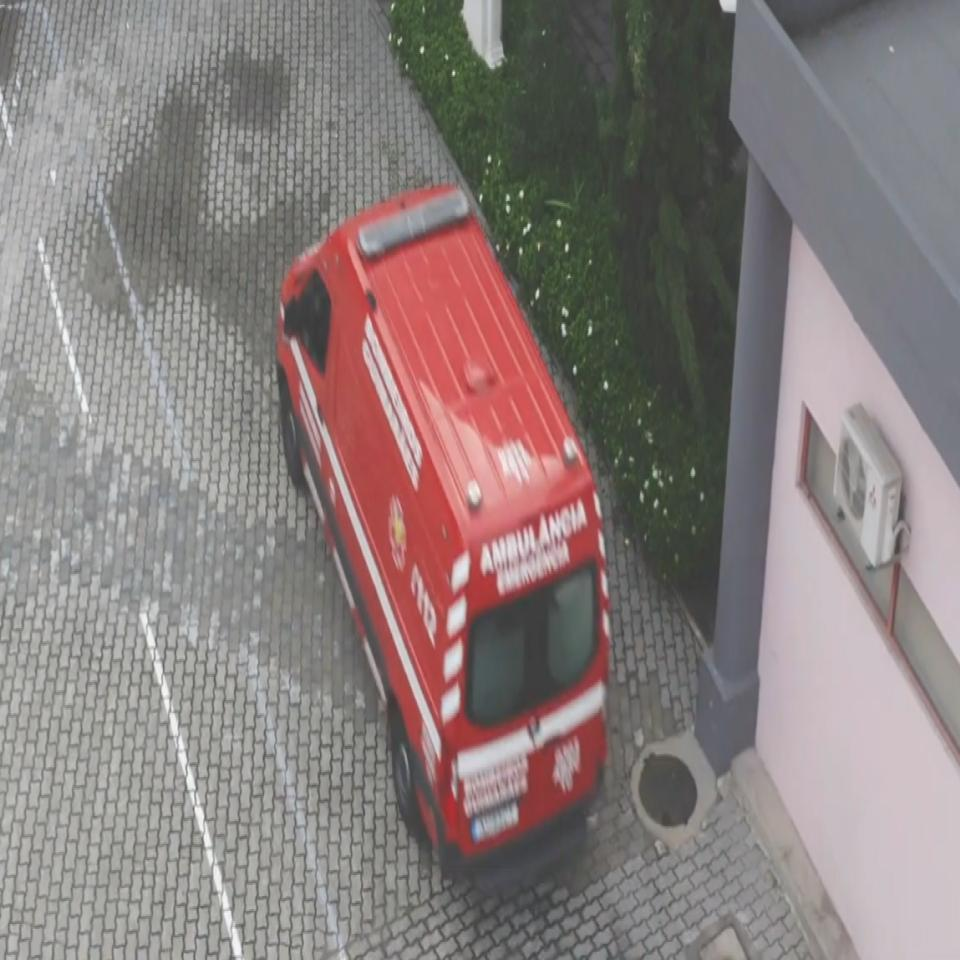bombeiro: (275, 178, 612, 891)
